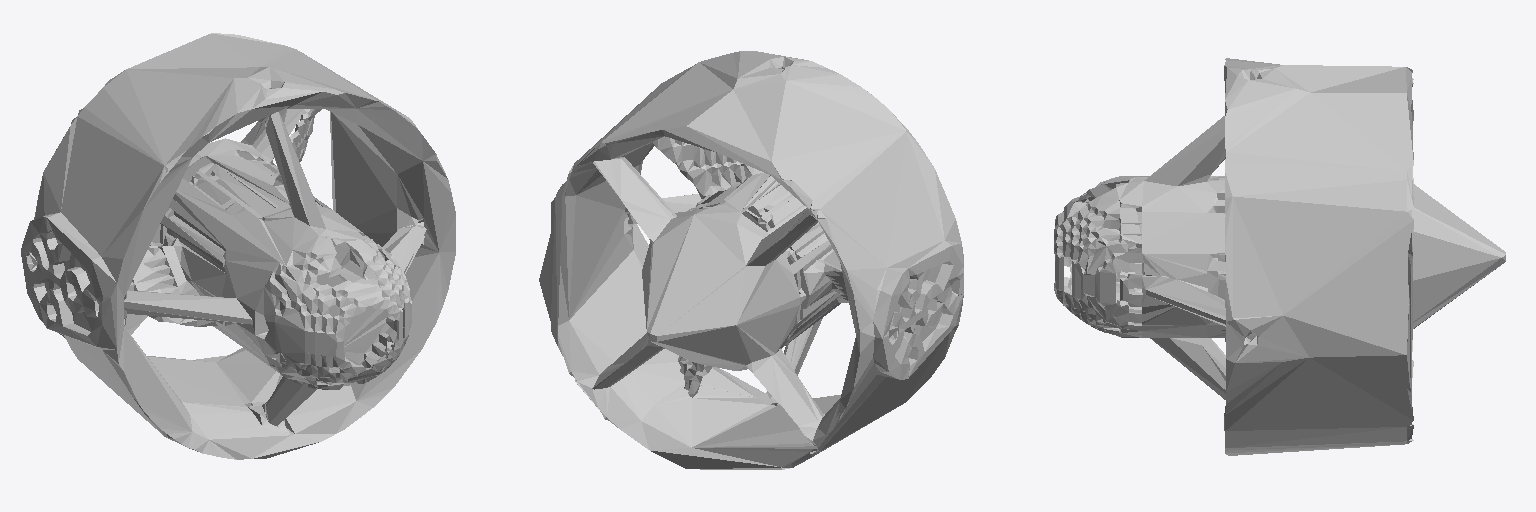
The model's file is tr-thruster_visual_tr-thruster.obj.
3 renders of one model, left to right at view 1: azimuth 30°, elevation 25°; view 2: azimuth 150°, elevation 25°; view 3: azimuth 270°, elevation 25°, orthographic.
Parts seen in each view (by area): view 1: tr-thruster_visual_tr-thruster; view 2: tr-thruster_visual_tr-thruster; view 3: tr-thruster_visual_tr-thruster.
Boxes of the visible parts, <box> form: tr-thruster_visual_tr-thruster: <box>21,33,455,459</box>; tr-thruster_visual_tr-thruster: <box>539,51,963,469</box>; tr-thruster_visual_tr-thruster: <box>1054,58,1505,455</box>.
Bounding box in the file's own units: 0.0975 × 0.0968 × 0.1085.